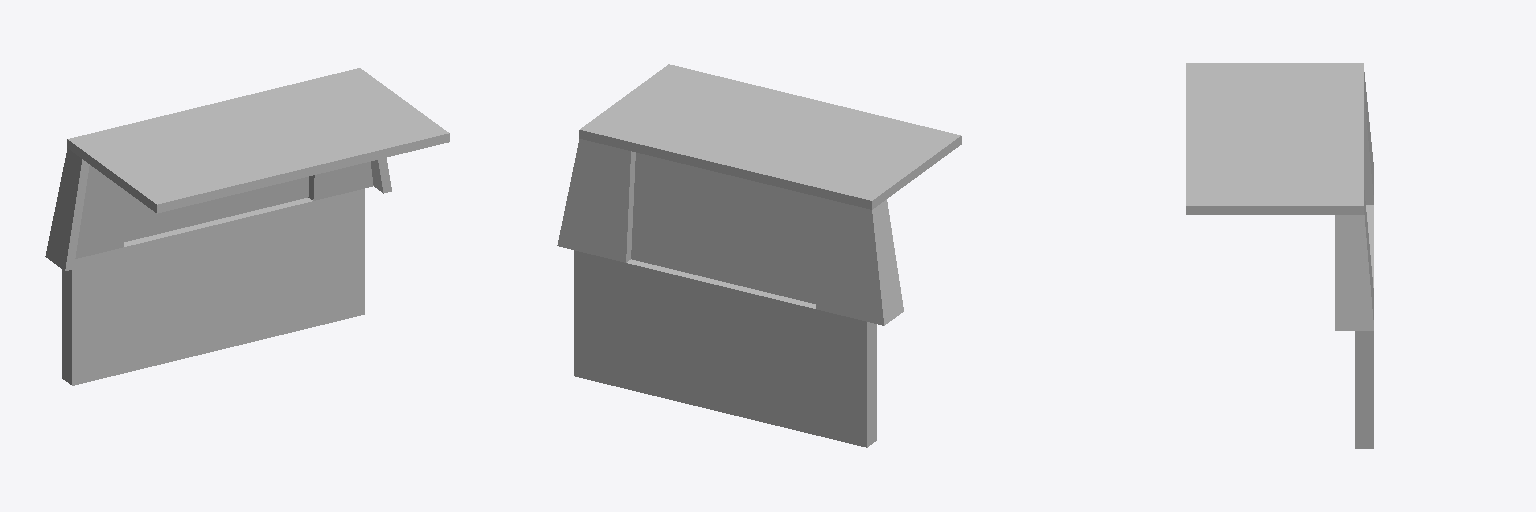
File: scoutpickuproof.obj
3 renders of one model, left to right at view 1: azimuth 30°, elevation 25°; view 2: azimuth 150°, elevation 25°; view 3: azimuth 270°, elevation 25°, orthographic.
Parts seen in each view (by area): view 1: cube, Wlndow; view 2: cube, Wlndow; view 3: cube.
Boxes of the visible parts, <box> form: cube: <box>45,68,449,385</box>; Wlndow: <box>124,177,308,241</box>; cube: <box>557,64,961,447</box>; Wlndow: <box>631,153,819,303</box>; cube: <box>1186,63,1373,448</box>.
Size of the model in its own units: 2.02 by 1.43 by 1.01.